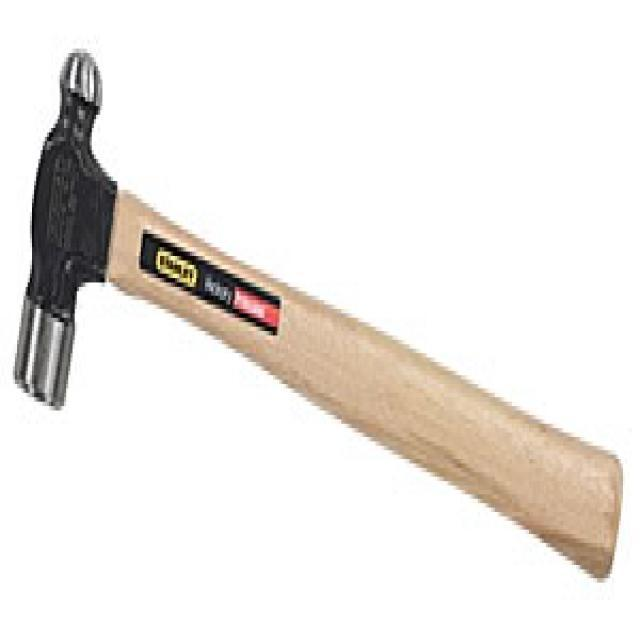hammer: (8, 34, 632, 592)
